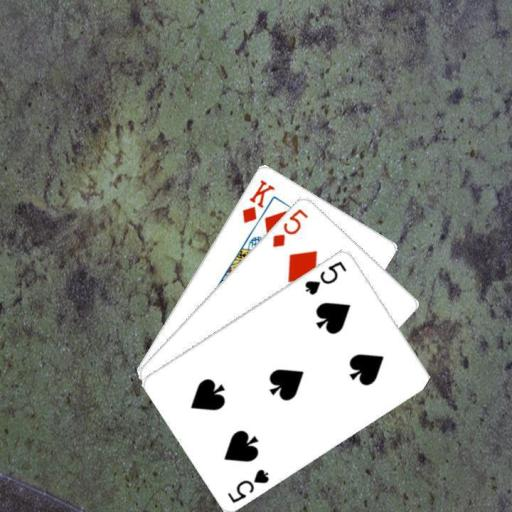card-corner: (239, 176, 277, 225), (224, 465, 271, 504), (269, 205, 310, 249), (302, 258, 348, 296)
